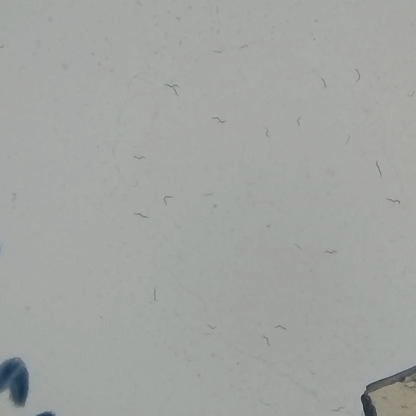worm: (190, 315, 222, 338), (141, 274, 165, 304), (363, 157, 394, 178), (227, 37, 256, 58), (8, 187, 28, 213), (342, 65, 366, 84), (378, 190, 403, 207), (210, 111, 231, 131), (164, 81, 185, 101), (268, 320, 293, 336), (283, 233, 304, 250), (204, 0, 225, 17), (129, 206, 154, 220), (252, 332, 275, 347), (117, 69, 140, 84), (254, 392, 273, 410), (203, 41, 224, 57), (313, 71, 331, 89), (159, 191, 176, 210), (322, 245, 345, 259), (327, 400, 347, 416), (263, 122, 276, 144), (198, 187, 217, 200), (129, 150, 149, 162), (339, 132, 354, 148), (402, 85, 416, 101), (296, 111, 306, 132)
